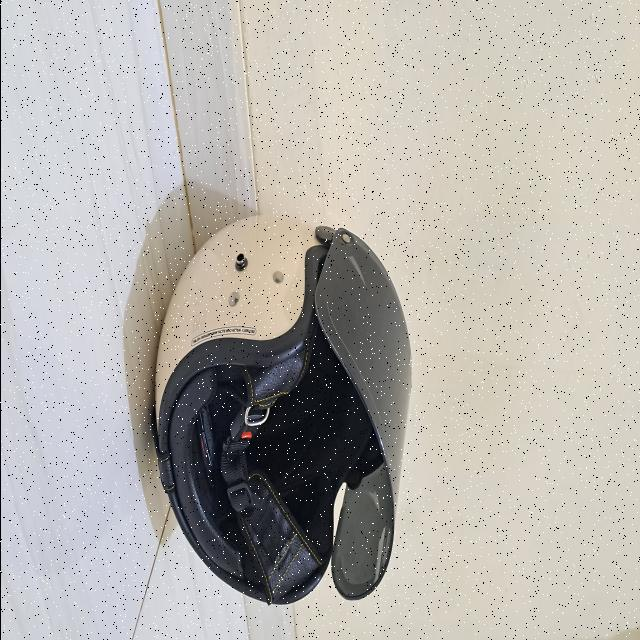Helmet: (150, 213, 410, 606)
